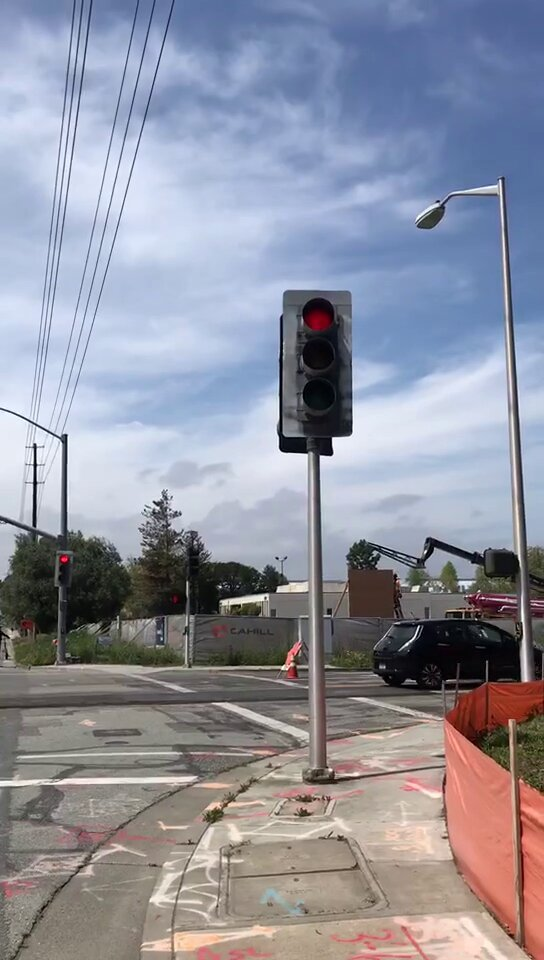red_light: (285, 290, 349, 435), (57, 550, 73, 586)
